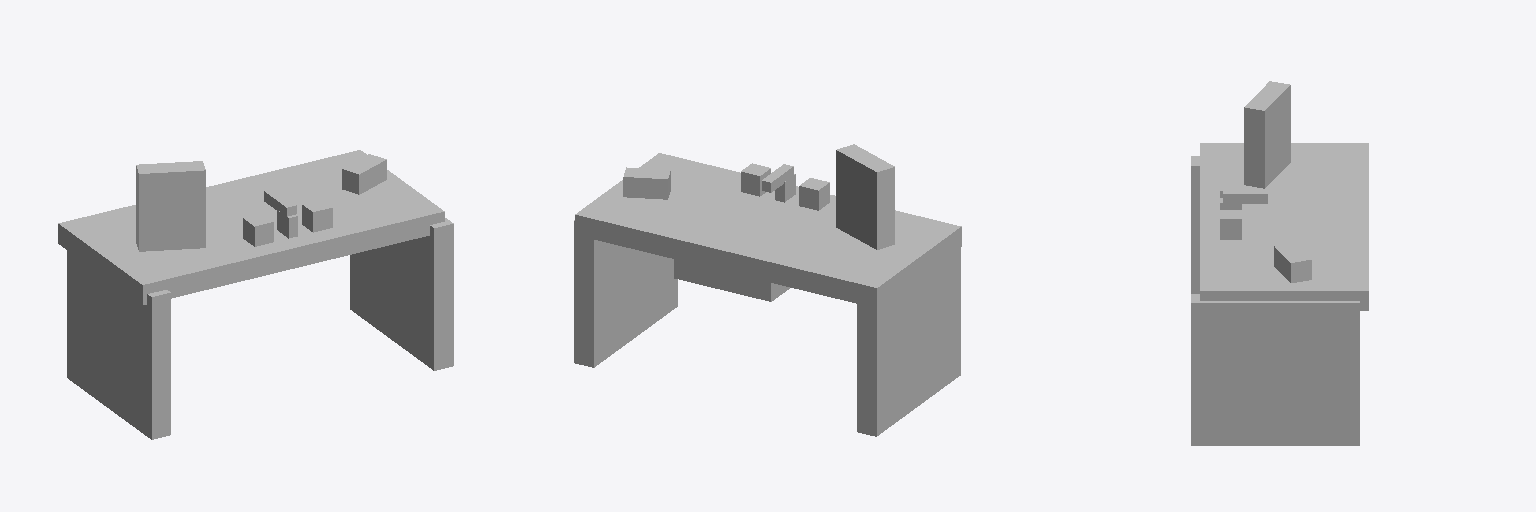
Rendered from tanque_externo.obj.
3 renders of one model, left to right at view 1: azimuth 30°, elevation 25°; view 2: azimuth 150°, elevation 25°; view 3: azimuth 270°, elevation 25°, orthographic.
Visible parts, largest first — view 1: Block, tanque, sabao, Block2, escova, Block3; view 2: tanque, Block, sabao, pia, Block2, escova, Block3; view 3: Block, tanque, sabao, escova, Block2, Block3.
Part boxes in pixels (x1,y1,x2,y2): Block: (67, 218, 453, 439); tanque: (58, 150, 444, 305); sabao: (136, 161, 205, 251); Block2: (243, 199, 332, 246); escova: (342, 154, 386, 194); Block3: (264, 189, 297, 238); tanque: (575, 153, 961, 308); Block: (574, 220, 960, 436); sabao: (836, 144, 894, 249); pia: (674, 259, 789, 301); Block2: (741, 163, 829, 210); escova: (623, 167, 670, 199); Block3: (762, 164, 795, 202); Block: (1191, 156, 1359, 445); tanque: (1200, 143, 1368, 310); sabao: (1244, 81, 1290, 188); escova: (1274, 242, 1311, 282); Block2: (1220, 181, 1241, 239); Block3: (1220, 189, 1267, 209).
Size of the model in its own units: 1.97 by 1.41 by 0.9844.